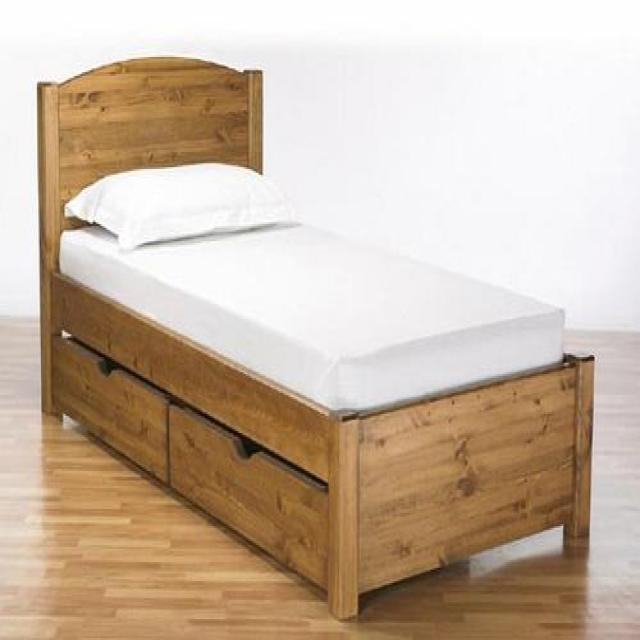bed: (37, 57, 594, 618)
